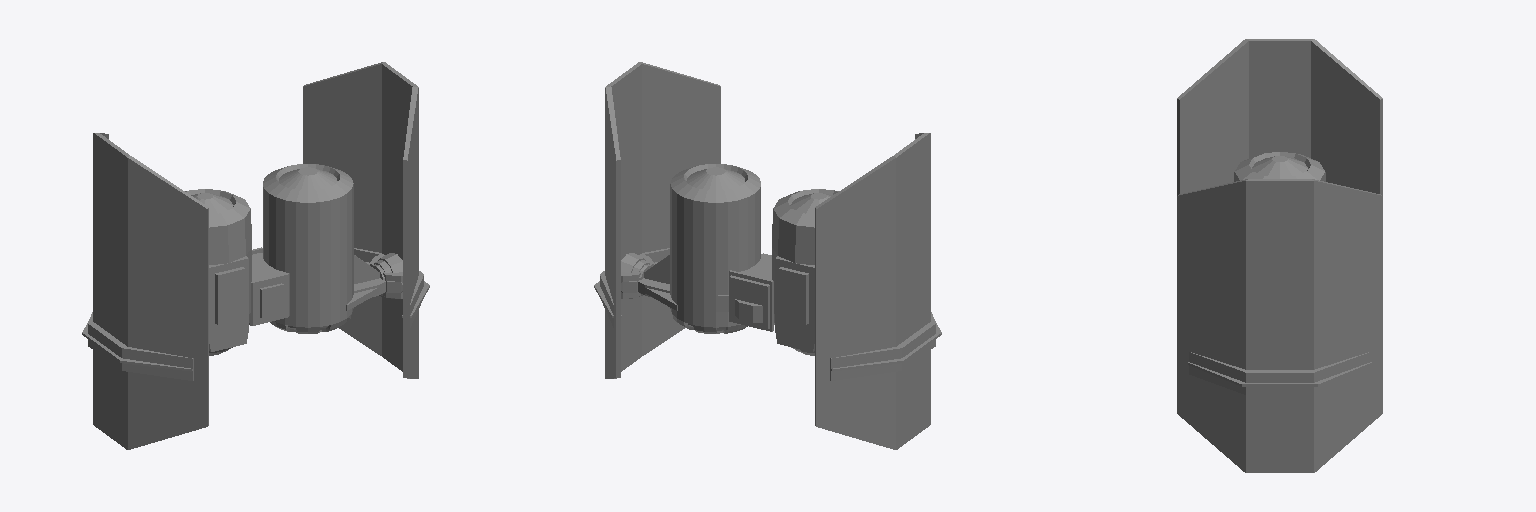
Rendered from Tie_Bomber.obj.
The picture shows the model from 3 angles: view 1: azimuth 30°, elevation 25°; view 2: azimuth 150°, elevation 25°; view 3: azimuth 270°, elevation 25°; orthographic projection.
Visible parts, largest first — view 1: Tie_Bomber; view 2: Tie_Bomber; view 3: Tie_Bomber.
Boxes of the visible parts, box(x1,y1,x2,y2) form: Tie_Bomber: box(82, 62, 429, 449); Tie_Bomber: box(594, 62, 941, 449); Tie_Bomber: box(1177, 39, 1382, 472).
Size of the model in its own units: 45.54 by 41.16 by 26.29.